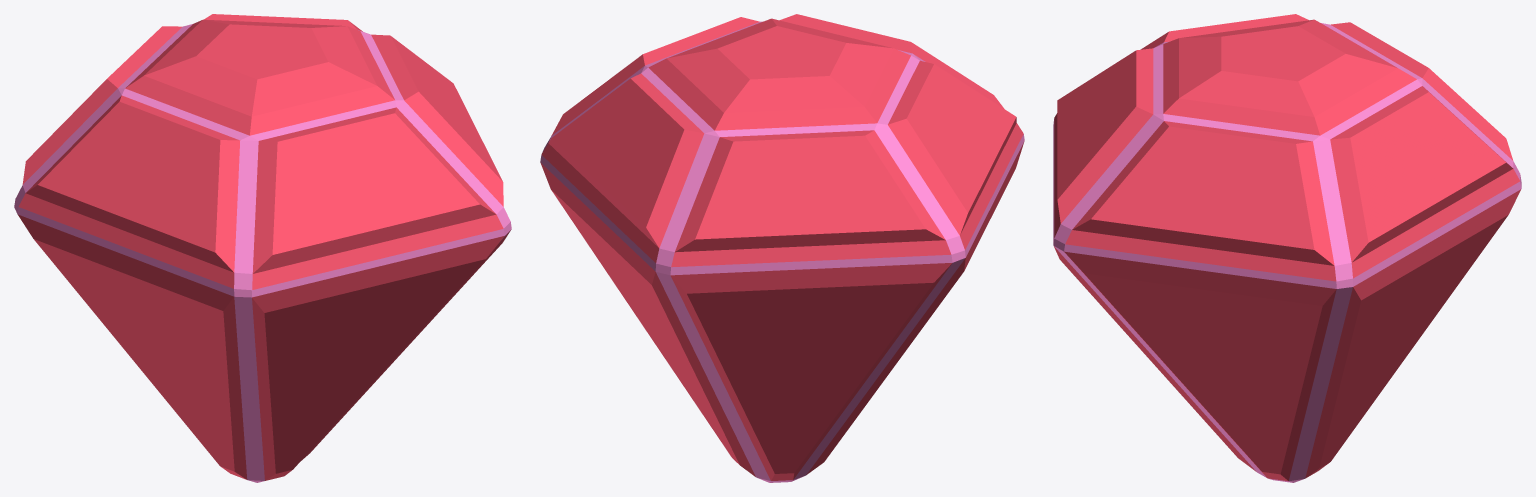
The model's file is Crystal 3.fbx.
3 views of the same model, side by side, from view 1: azimuth 30°, elevation 25°; view 2: azimuth 150°, elevation 25°; view 3: azimuth 270°, elevation 25° (orthographic). The views are drawn at different scales.
Parts seen in each view (by area): view 1: Crystal 3; view 2: Crystal 3; view 3: Crystal 3.
Part boxes in pixels (x1,y1,x2,y2): Crystal 3: (14,14,511,482); Crystal 3: (540,14,1024,482); Crystal 3: (1053,14,1521,482).
Size of the model in its own units: 40.55 by 38.34 by 38.56.
